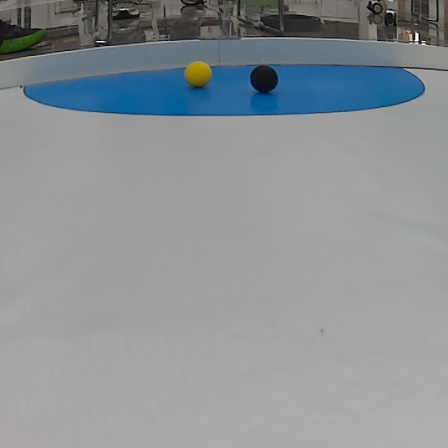black: (249, 64, 286, 95)
blue_base: (20, 63, 426, 117)
yellow: (185, 62, 214, 88)
